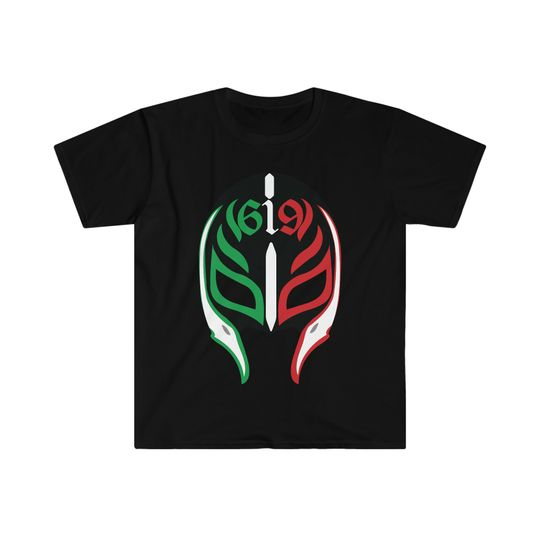design: (195, 169, 344, 386)
